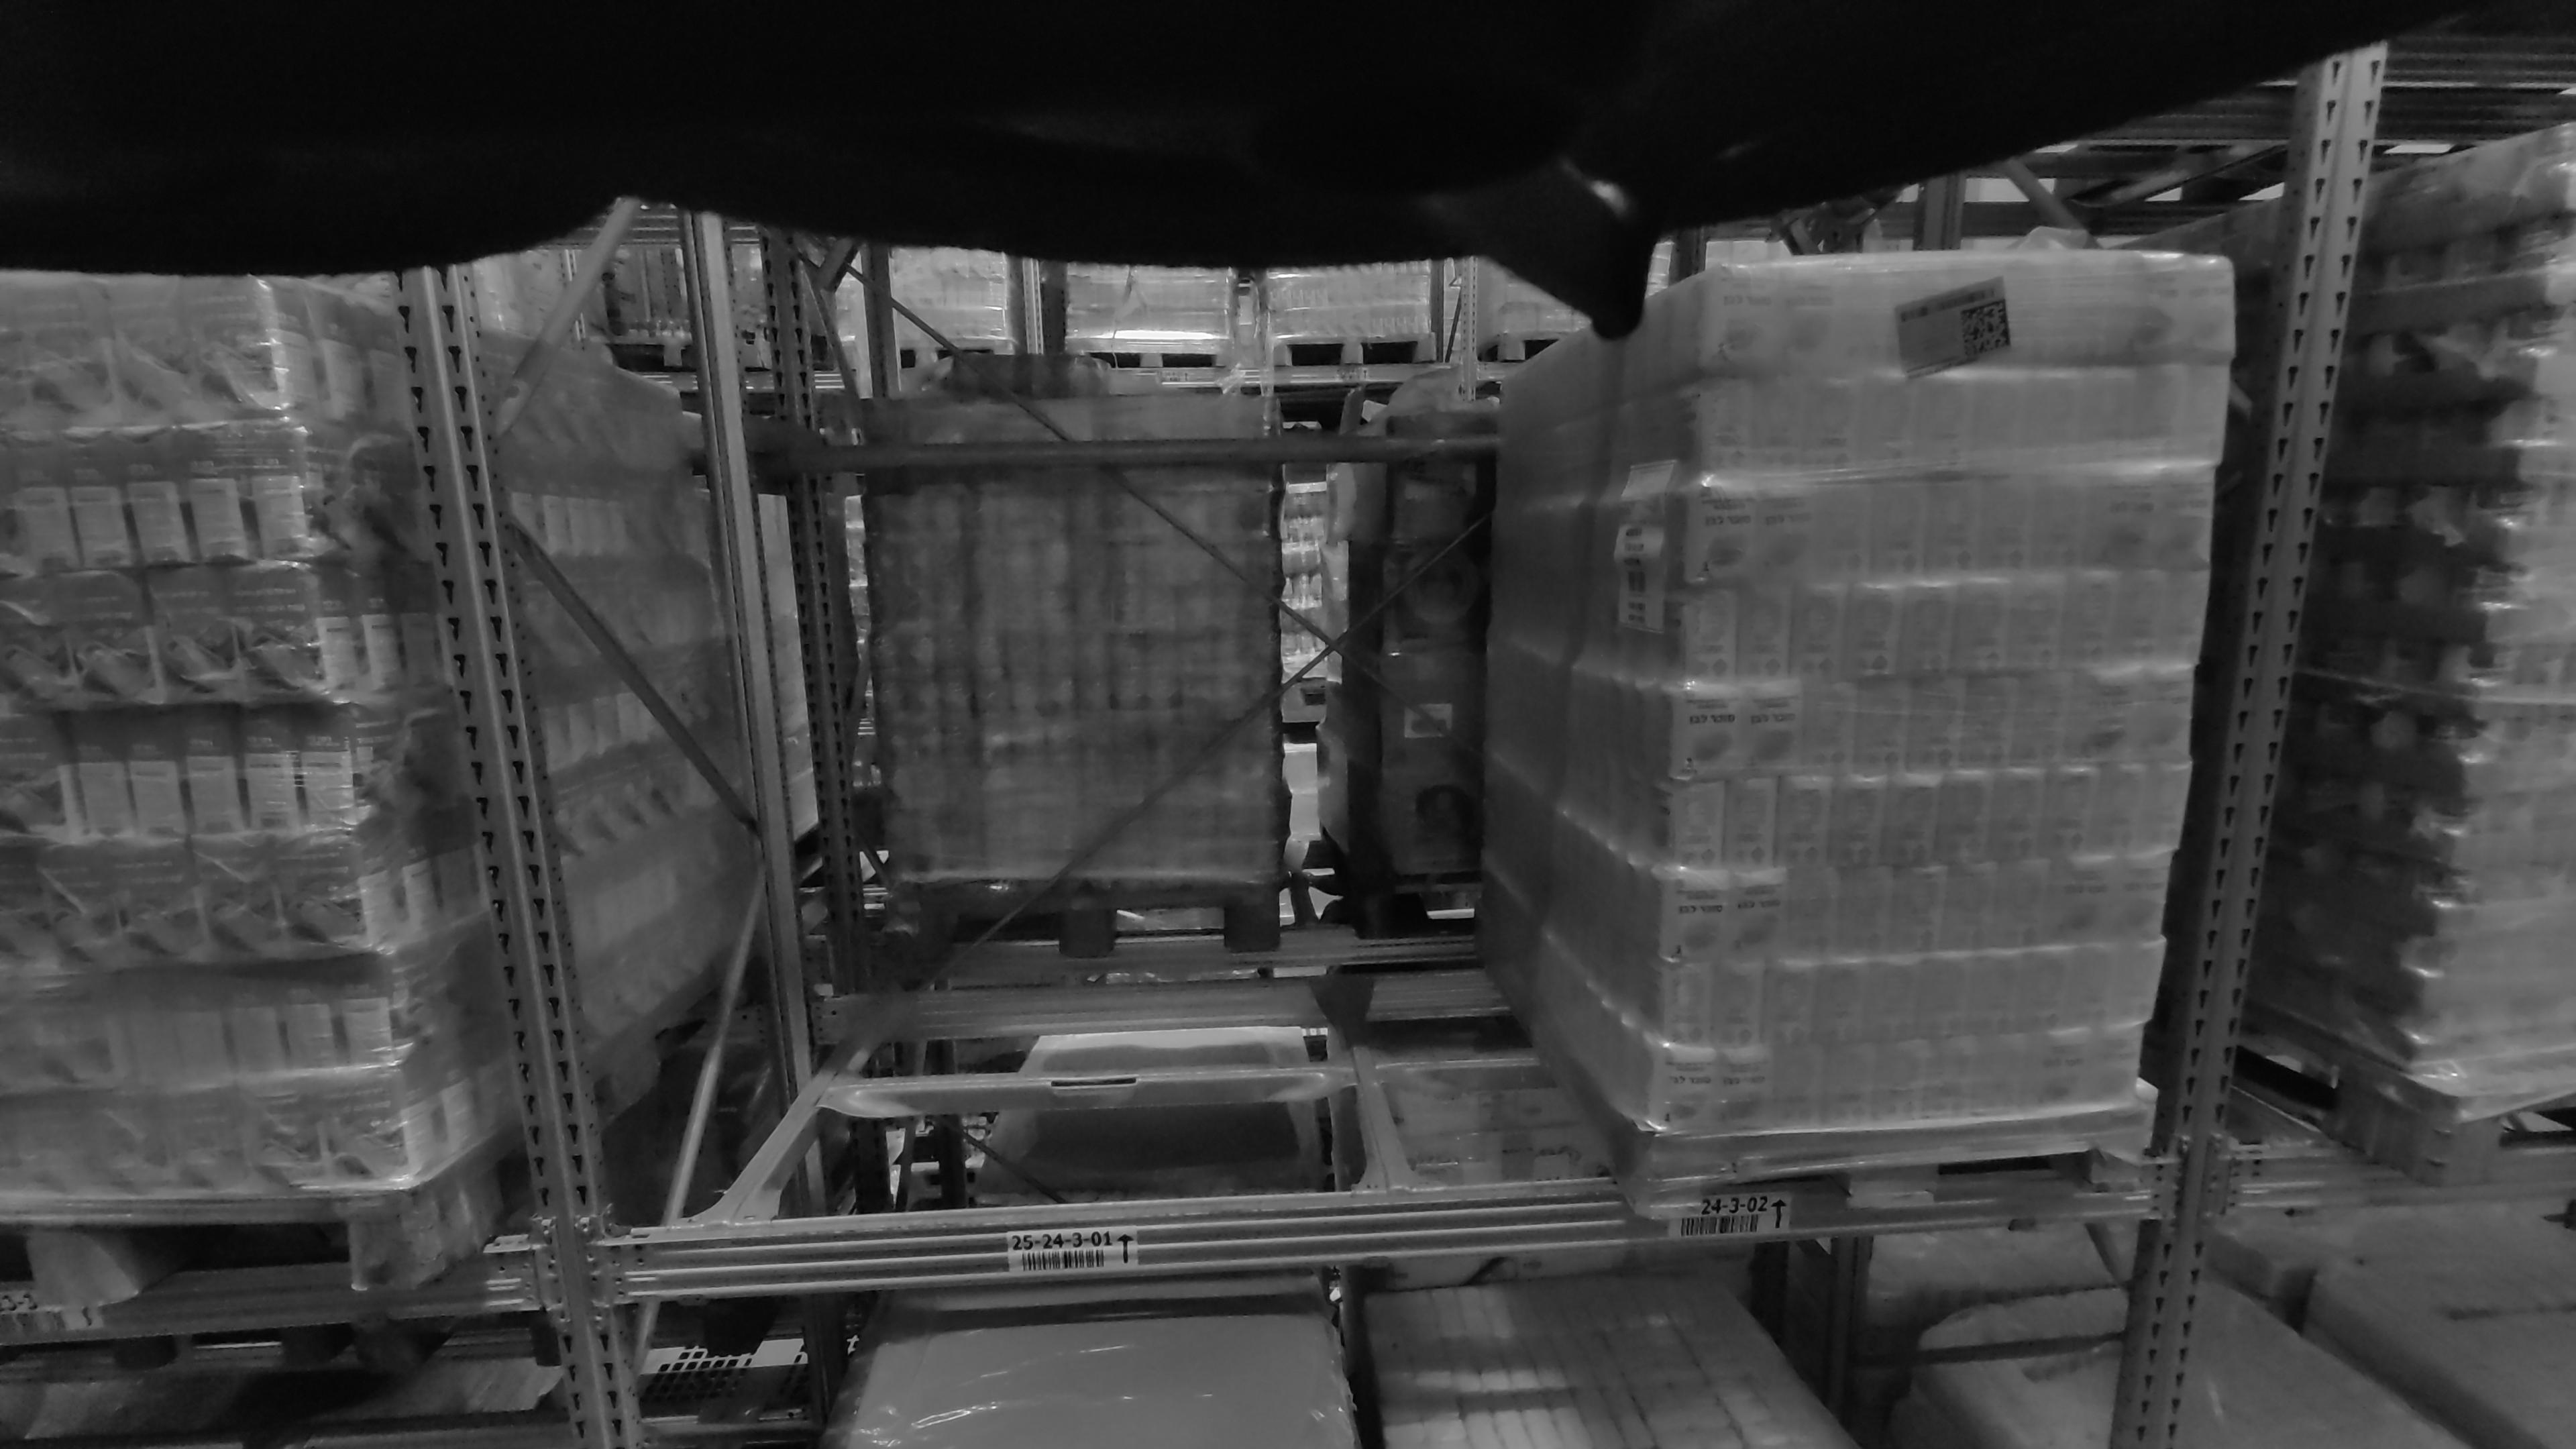empty-shelf: (803, 186, 1405, 1201)
